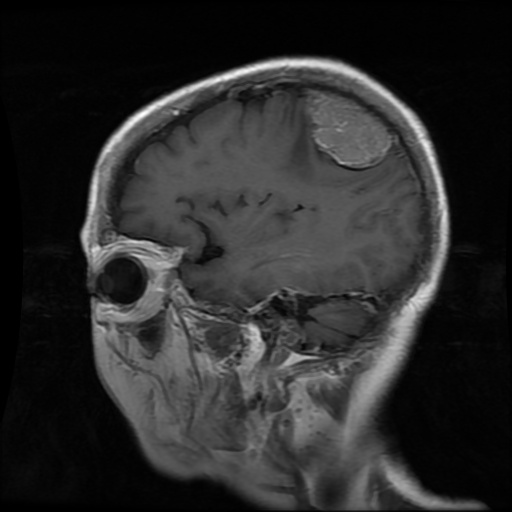meningioma: (300, 90, 394, 167)
